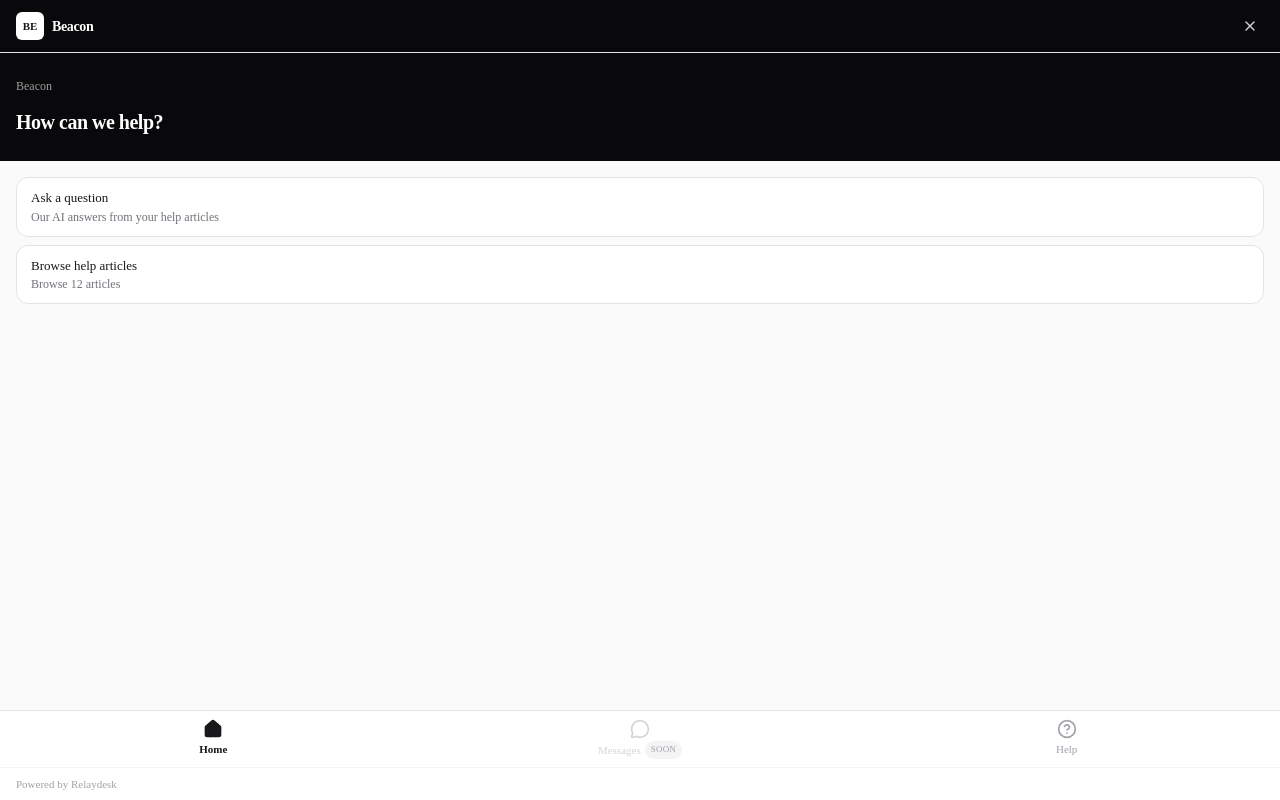
Test: the panel's tab bar › hides the tab bar once a conversation is under way, and restores it going home
This screenshot has width=1280, height=800.
Expected: the button "Home" is shown, [0, 711, 427, 766]
Click the button "Ask a question Our AI answers from your help articles".
click(70, 198)  # box [16, 177, 1264, 236]
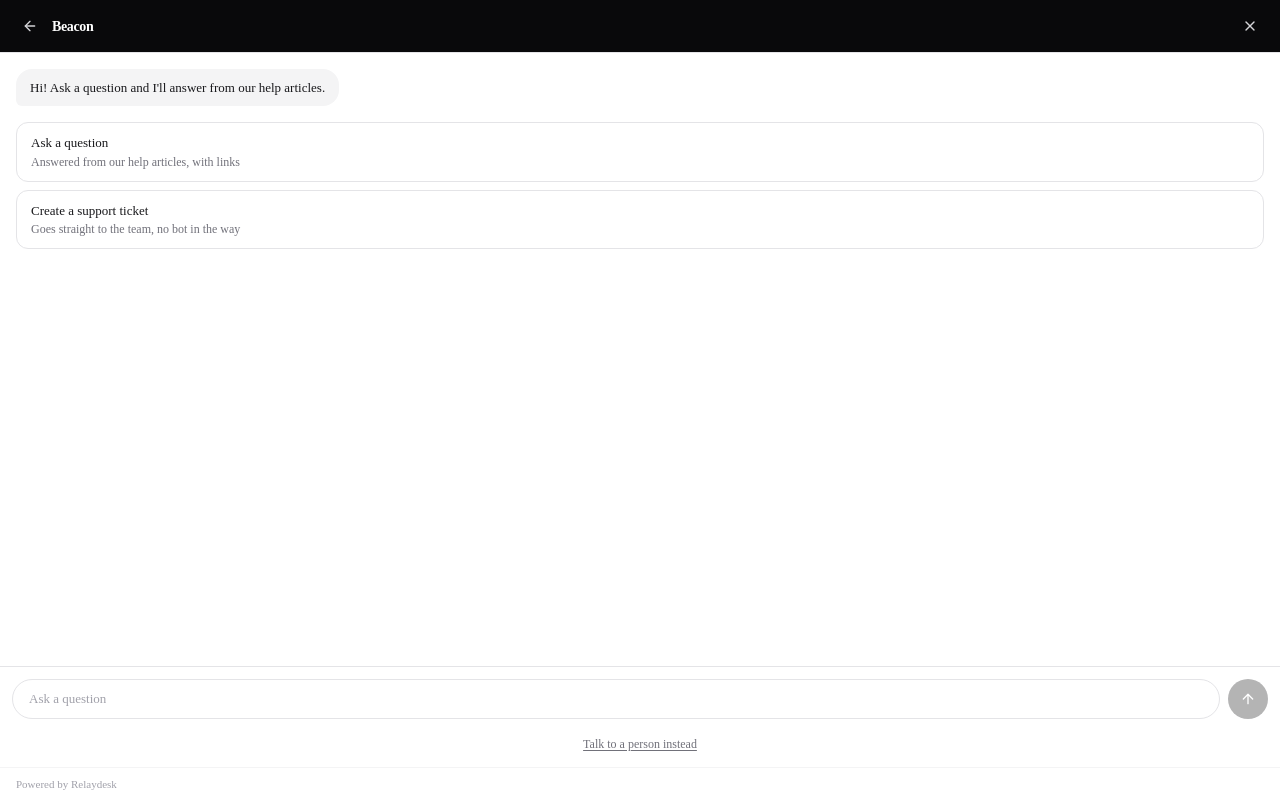
Now the button "Home" is gone
Click the button "Talk to a person instead".
click(640, 744)  # box [583, 734, 697, 752]
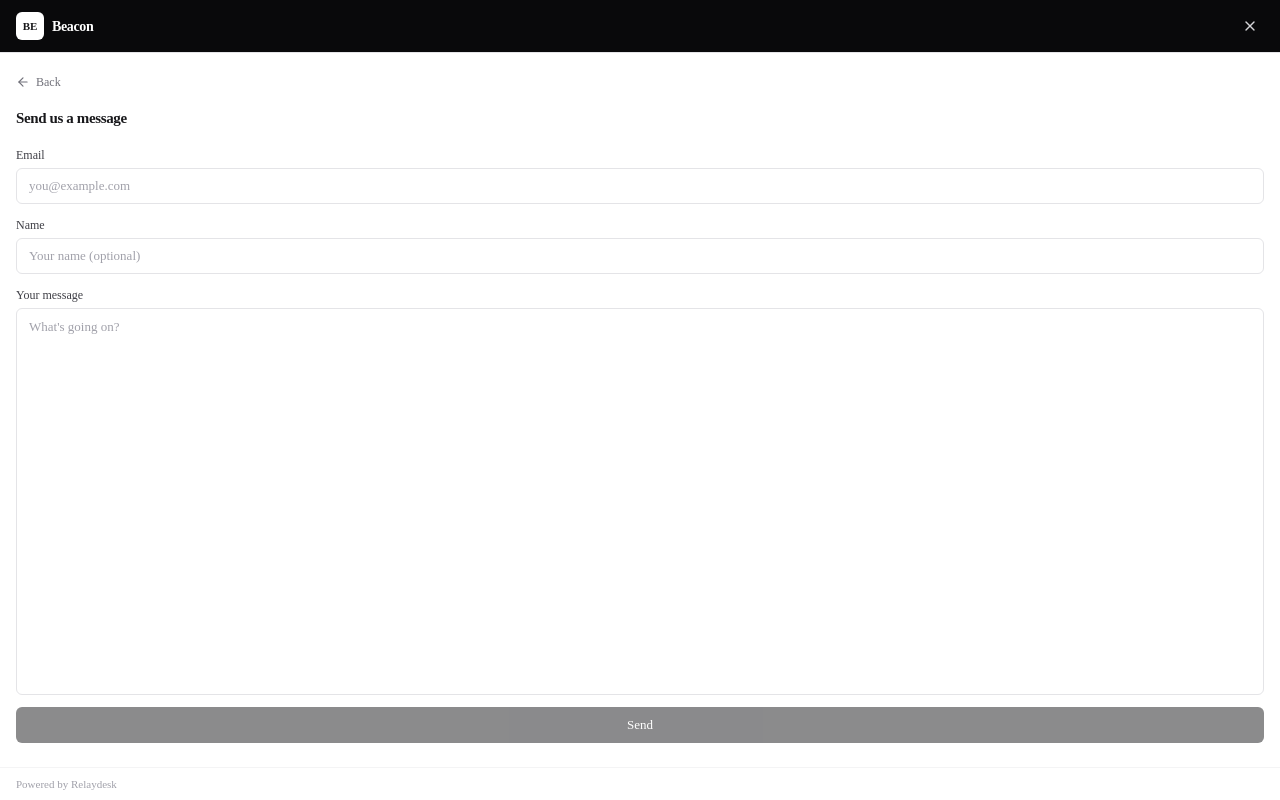
Expected: the button "Home" is not shown
Now the text box labelled "Your message" is shown, box [16, 308, 1264, 694]
Click the button "Back".
click(38, 82)  # box [16, 73, 61, 91]
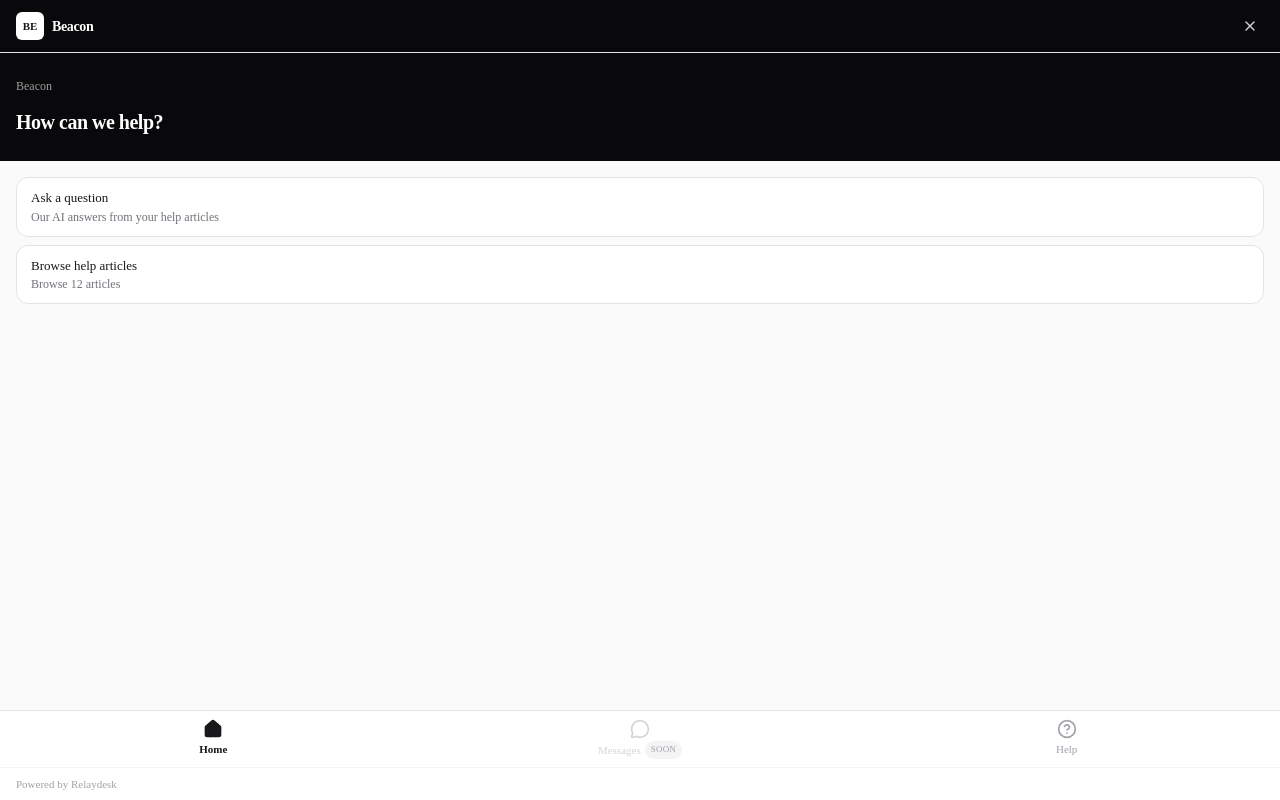
Now the button "Home" is shown, box [0, 711, 427, 766]
